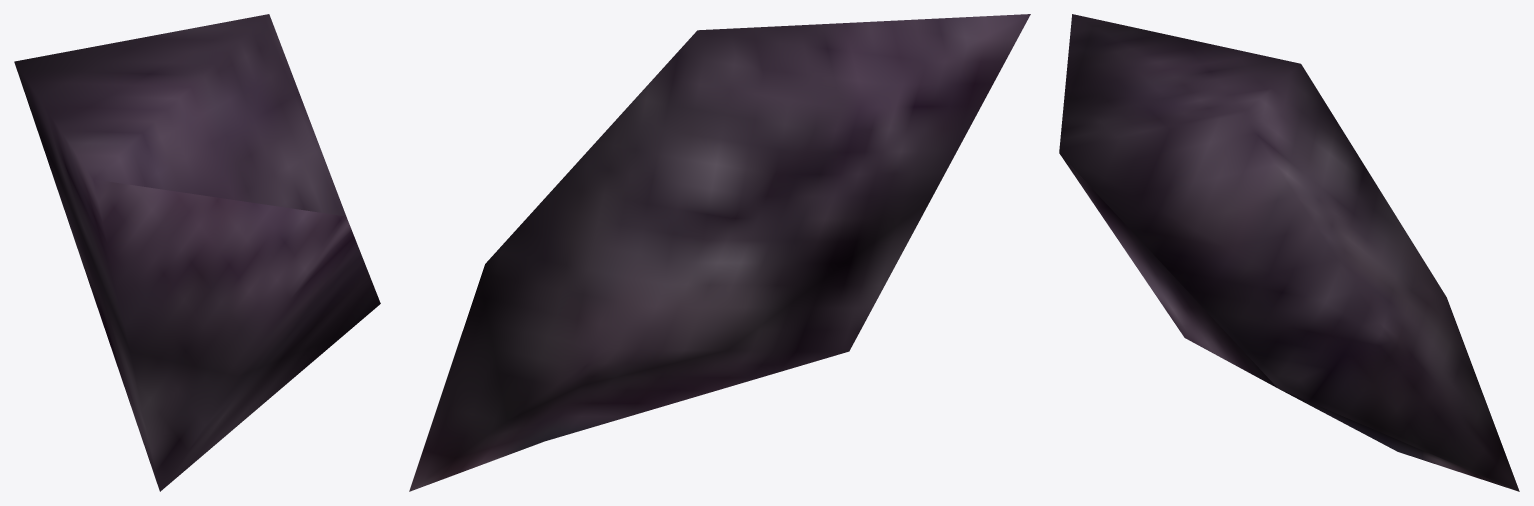
File: condra_7_stone_5.glb
3 renders of one model, left to right at view 1: azimuth 30°, elevation 25°; view 2: azimuth 150°, elevation 25°; view 3: azimuth 270°, elevation 25°, orthographic. The views are drawn at different scales.
Visible parts, largest first — view 1: model_condra_7_stone_5; view 2: model_condra_7_stone_5; view 3: model_condra_7_stone_5.
Part boxes in pixels (x1=…): model_condra_7_stone_5: x1=14, y1=14, x2=380, y2=491; model_condra_7_stone_5: x1=409, y1=14, x2=1030, y2=491; model_condra_7_stone_5: x1=1059, y1=14, x2=1519, y2=491.
Bounding box in the file's own units: 0.124 × 0.1231 × 0.158.
Materials: 1 (1 with a texture image).
